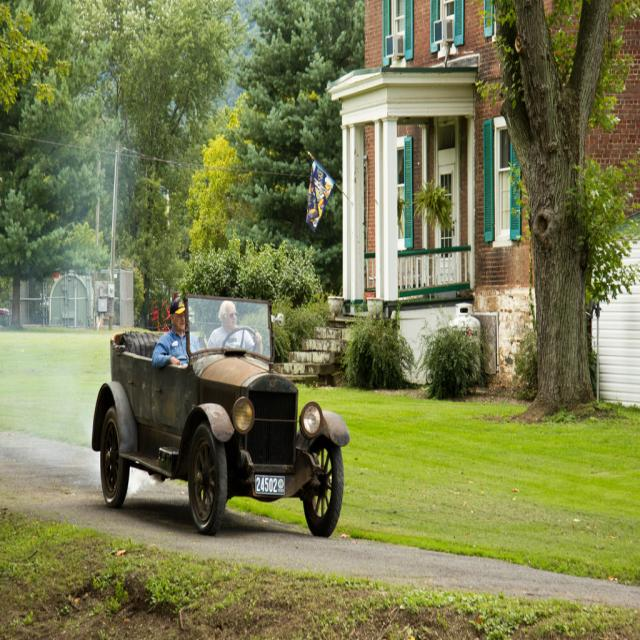car: (90, 292, 351, 534)
